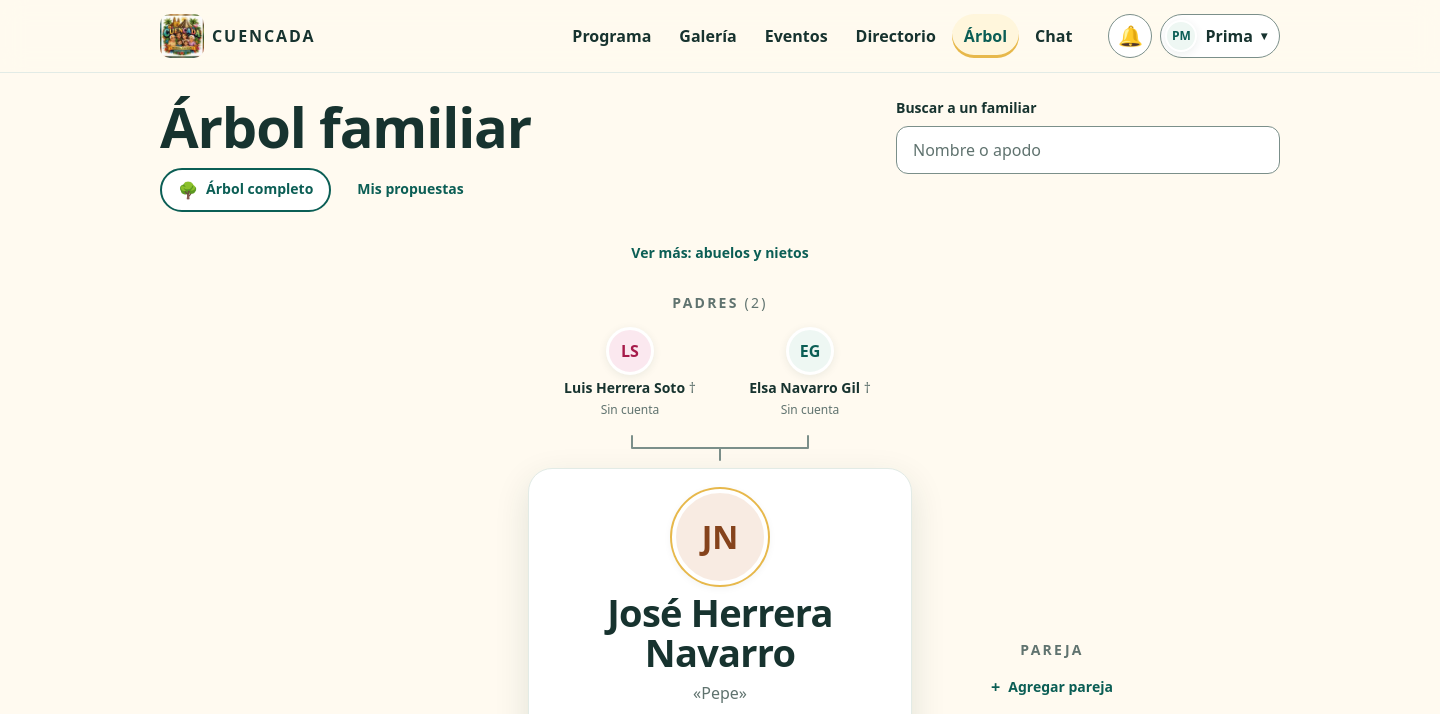
Test case: FamilyTreePage › loads grandparents and grandchildren behind «Ver más»
Click the button "Ver más: abuelos y nietos".
click(720, 254)  # box [613,232,827,276]
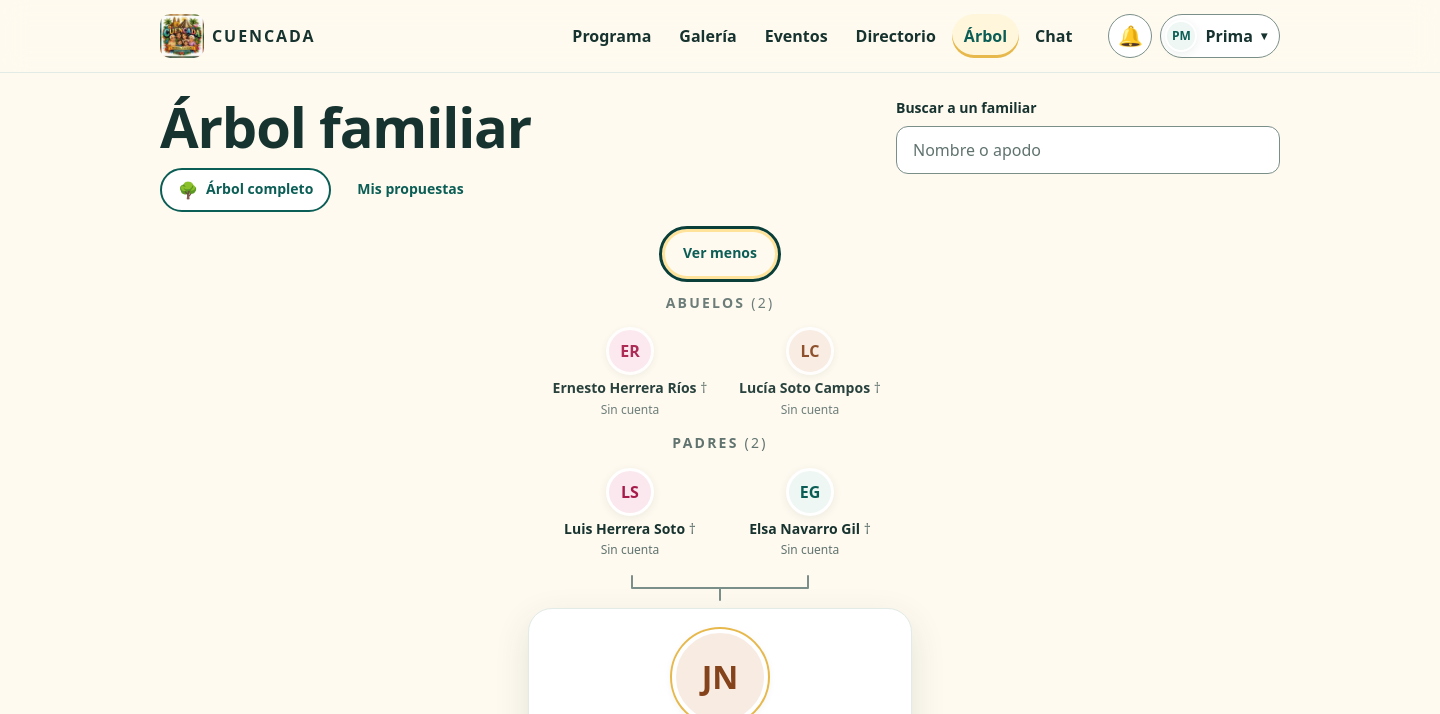
Now the button with aria-label "Ver a Ernesto Herrera Ríos, ya falleció" is shown, box [544,318,716,428]
Now the button with aria-label "Ver a Lucía Soto Campos, ya falleció" is shown, box [724,318,896,428]
Now the button "Ver menos" is expanded, box [665,232,775,276]
